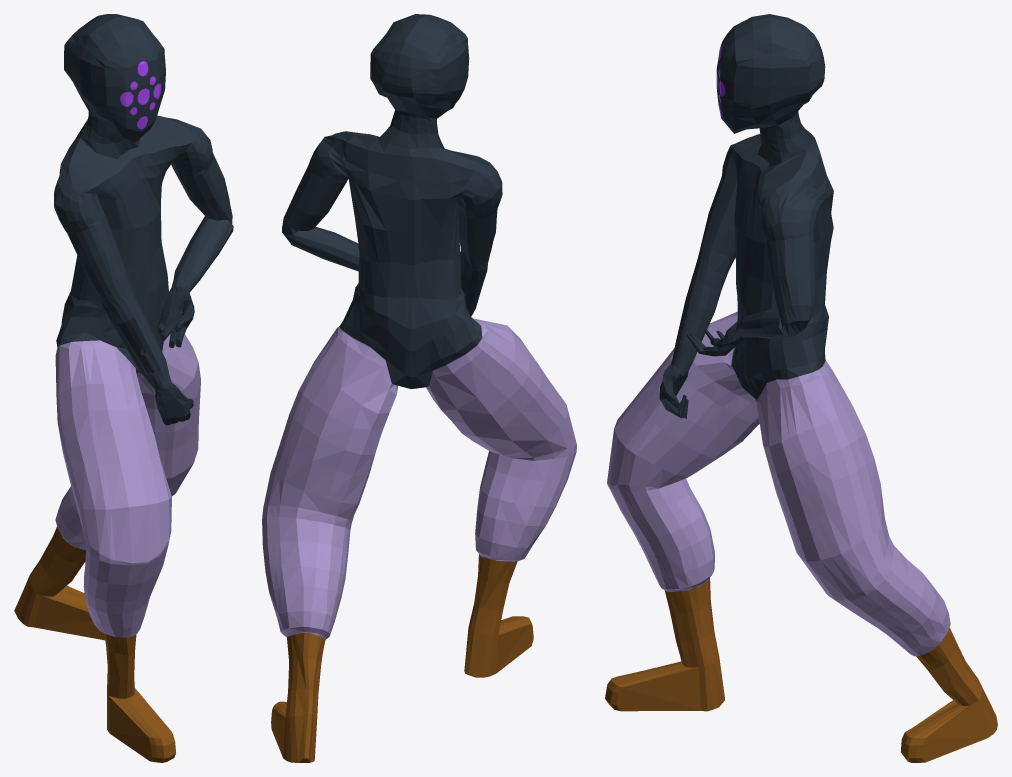
Rendered from Oracle_WB_000016.obj.
3 renders of one model, left to right at view 1: azimuth 30°, elevation 25°; view 2: azimuth 150°, elevation 25°; view 3: azimuth 270°, elevation 25°, orthographic. The views are drawn at different scales.
Parts seen in each view (by area): view 1: Cube; view 2: Cube; view 3: Cube.
Part boxes in pixels (box(x1,y1,x2,y2)): Cube: box(14, 14, 233, 762); Cube: box(262, 14, 576, 762); Cube: box(605, 14, 997, 762).
Bounding box in the file's own units: 1.21 × 3.66 × 1.84.
